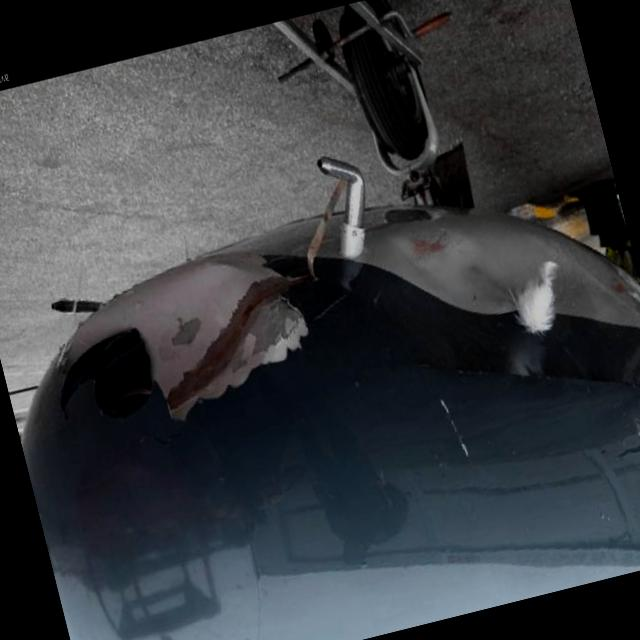dent: (393, 216, 519, 329), (145, 250, 267, 356)
